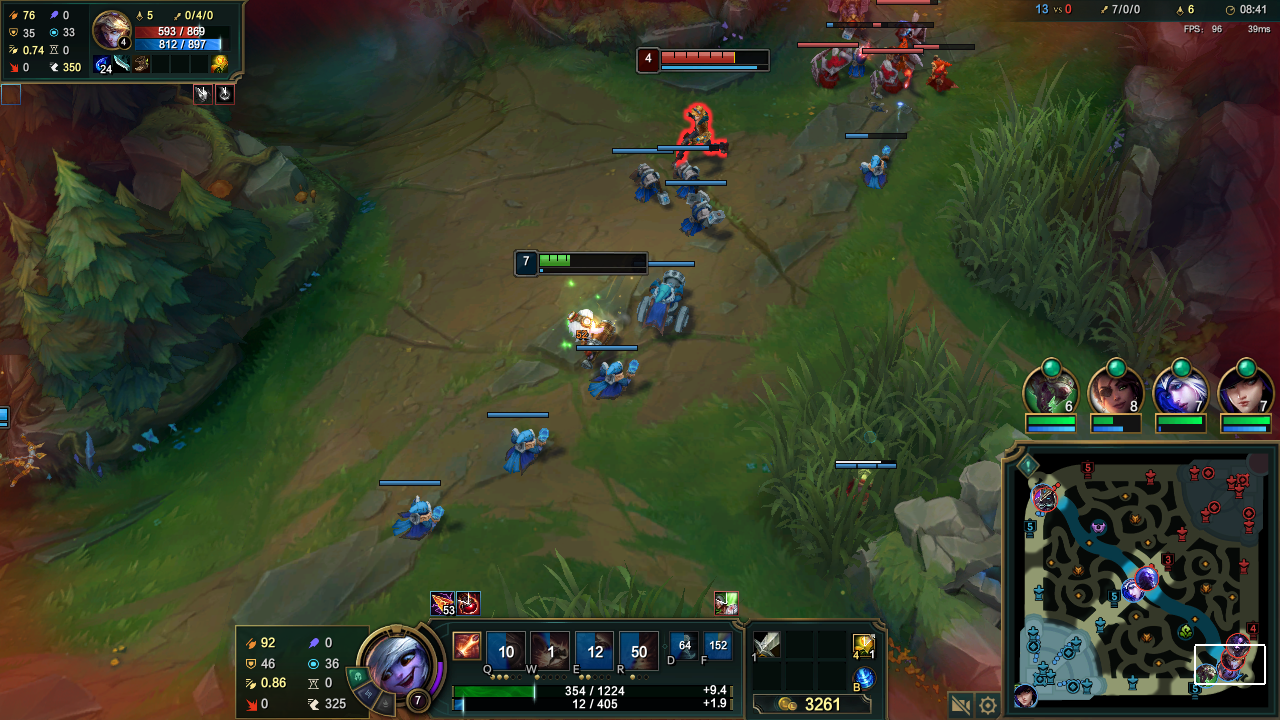DFXB: (868, 53, 919, 95), (923, 55, 966, 98), (811, 51, 855, 89)
DFYX: (658, 50, 737, 65)
WFXB: (634, 267, 709, 335), (383, 492, 464, 546), (587, 355, 644, 411), (498, 426, 563, 474), (628, 160, 678, 209), (677, 191, 729, 236), (859, 146, 897, 194), (672, 164, 711, 192)
